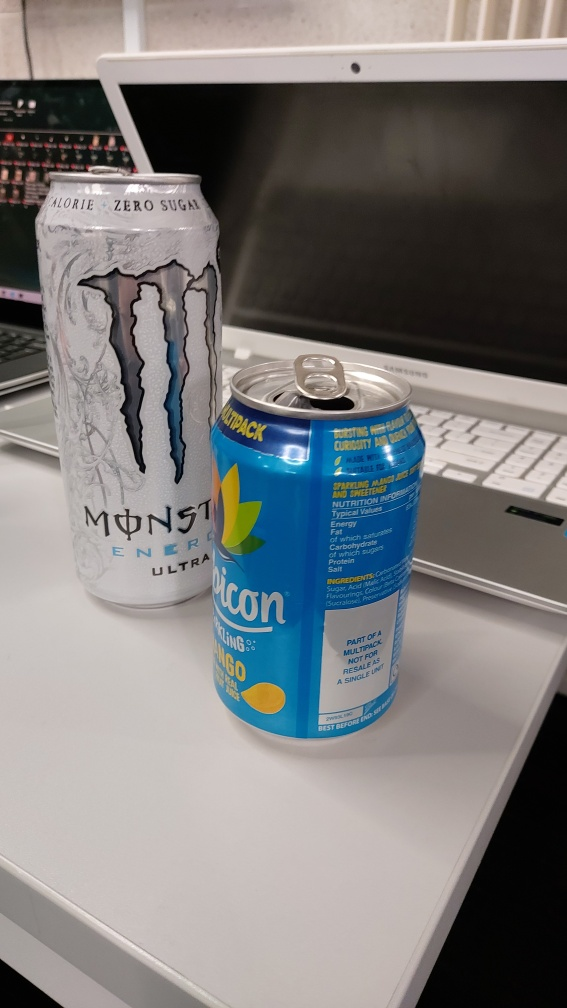can_blue: (183, 341, 473, 763)
